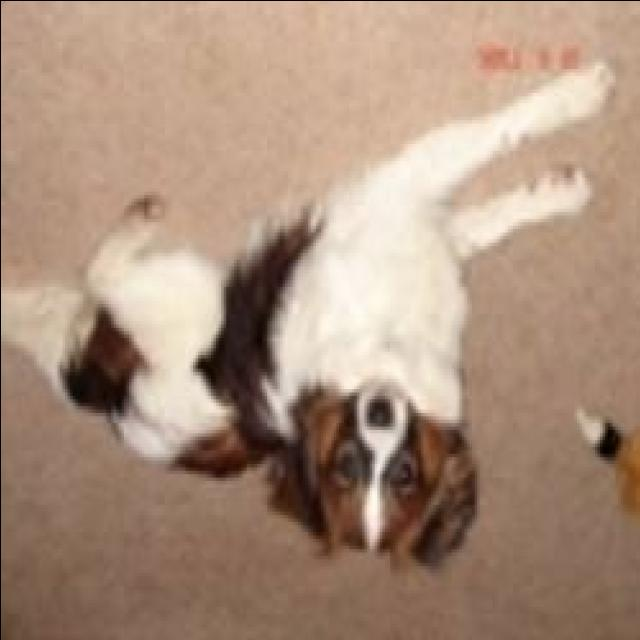papillon: (0, 54, 612, 576)
